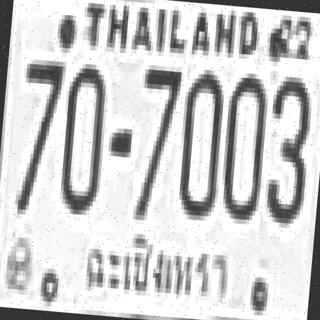N00: (56, 58, 108, 211), (175, 68, 226, 217), (219, 70, 268, 218)
N03: (263, 71, 312, 219)
N07: (12, 54, 64, 212), (132, 64, 180, 217)
P07: (80, 227, 234, 309)
